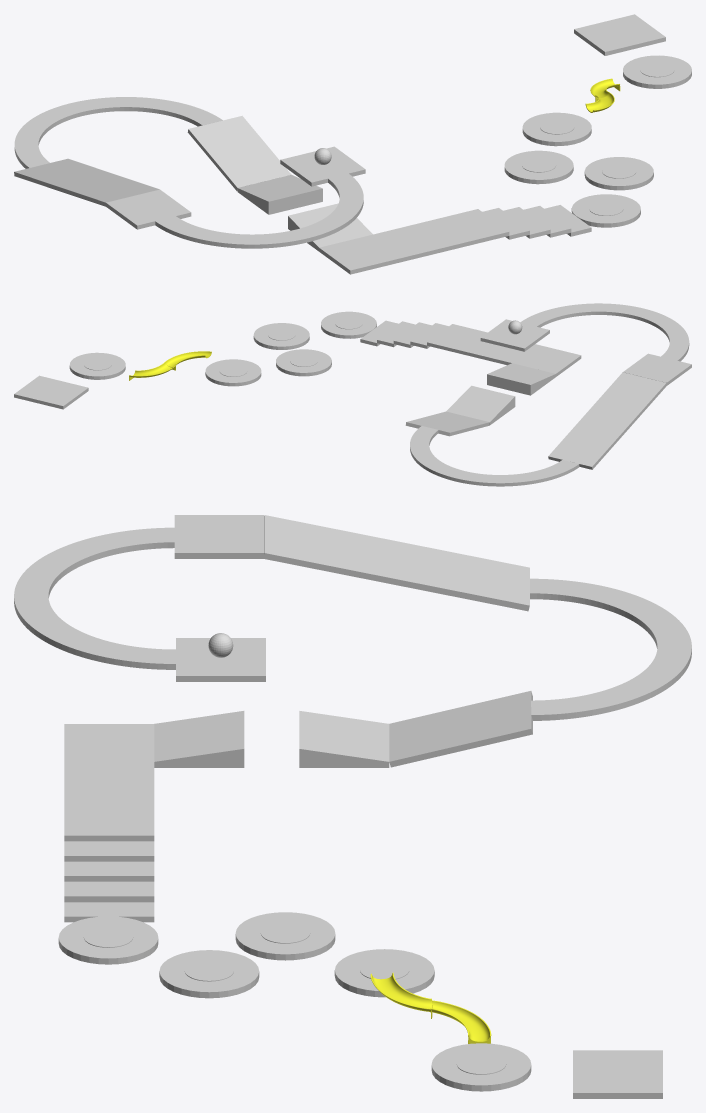
Rendered from Level 2.fbx.
3 renders of one model, top to bottom at view 1: azimuth 30°, elevation 25°; view 2: azimuth 150°, elevation 25°; view 3: azimuth 270°, elevation 25°, orthographic. The views are drawn at different scales.
Visible parts, largest first — view 1: Cube.012, Cube.016, Cube.006, Cube.021, Cube.013, Cube.015, Cube.005, Cube, Cylinder.002, Cylinder.006, Cylinder.004, Cylinder.010 (+19 smaller); view 2: Cube.006, Cube.016, Cube.013, Cube.021, Cube.014, Cube, Cube.005, Cube.015, Cube.012, Cylinder.004, Cylinder.006, Cylinder.010 (+16 smaller); view 3: Cube.006, Cube.016, Cube.012, Cube.014, Cube.013, Cube.021, Cube.005, Cube, Cube.015, Cylinder.010, Cylinder, Cylinder.004 (+20 smaller).
Part boxes in pixels (x1,y1,x2,y2): Cube.012: (187,115,291,191); Cube.016: (373,209,509,261); Cube.006: (14,158,159,206); Cube.021: (574,14,665,55); Cube.013: (237,175,322,214); Cube.015: (319,234,404,274); Cube.005: (106,189,191,229); Cube: (280,146,365,186); Cylinder.002: (584,157,653,190); Cylinder.006: (522,112,591,146); Cylinder.004: (504,150,573,184); Cylinder.010: (623,55,691,88); Cube.006: (548,372,666,469); Cube.016: (427,324,536,365); Cube.013: (446,385,515,425); Cube.021: (14,375,88,409); Cube.014: (487,363,555,395); Cube: (480,319,549,351); Cube.005: (623,353,691,385); Cube.015: (512,344,581,376); Cube.012: (405,411,489,436); Cylinder.004: (276,349,331,376); Cylinder.006: (205,359,261,386); Cylinder.010: (69,352,125,379); Cube.006: (264,515,529,611); Cube.016: (64,761,154,841); Cube.012: (389,691,532,767); Cube.014: (154,711,244,767); Cube.013: (299,711,389,767); Cube.021: (573,1050,662,1098); Cube.005: (174,515,264,558); Cube: (176,638,265,681); Cube.015: (64,724,154,761); Cylinder.010: (431,1043,531,1091); Cylinder: (58,916,158,964); Cylinder.004: (235,912,335,960).
Bounding box in the file's own units: 4474 × 633 × 2733.
